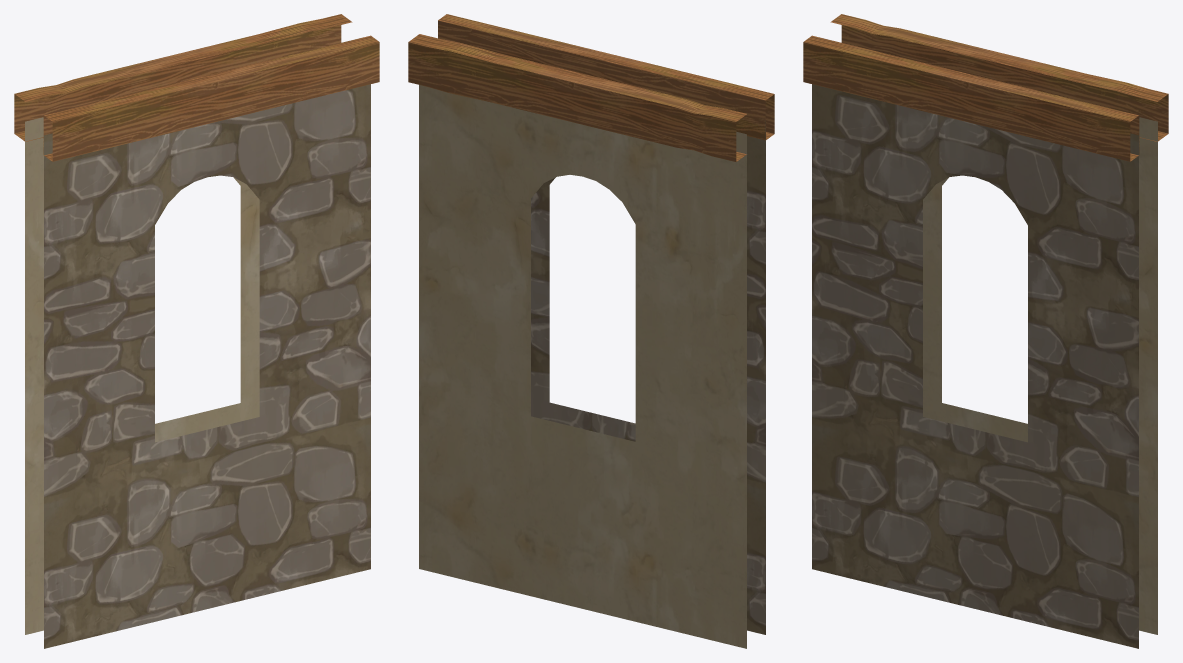
The model's file is Wall_UnevenBrick_Window_Thin_Round.gltf.
The picture shows the model from 3 angles, left to right: view 1: azimuth 30°, elevation 25°; view 2: azimuth 150°, elevation 25°; view 3: azimuth 330°, elevation 25°; orthographic projection.
Parts seen in each view (by area): view 1: Wall_UnevenBrick_Window_Thin_Round; view 2: Wall_UnevenBrick_Window_Thin_Round; view 3: Wall_UnevenBrick_Window_Thin_Round.
Part boxes in pixels (bbox=[...]): Wall_UnevenBrick_Window_Thin_Round: bbox=[14, 14, 379, 648]; Wall_UnevenBrick_Window_Thin_Round: bbox=[408, 14, 774, 648]; Wall_UnevenBrick_Window_Thin_Round: bbox=[803, 14, 1168, 648].
Bounding box in the file's own units: 2 × 3.12 × 0.4065.
3 materials, 3 textured.
